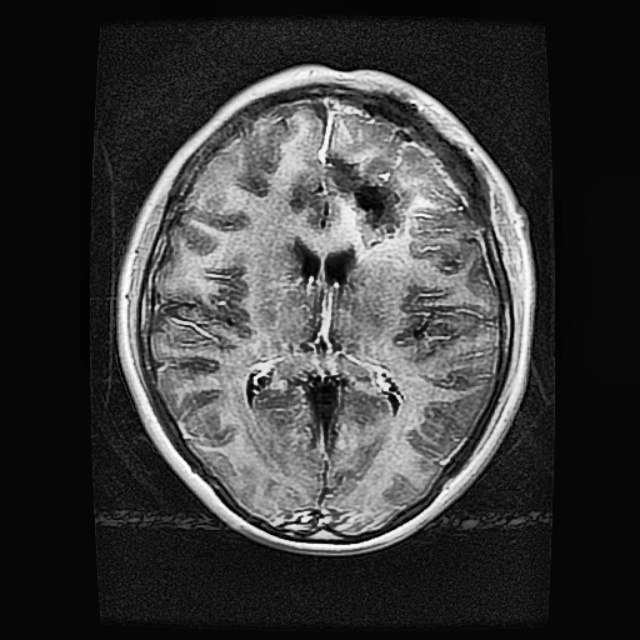Glioma: (287, 149, 413, 245)
